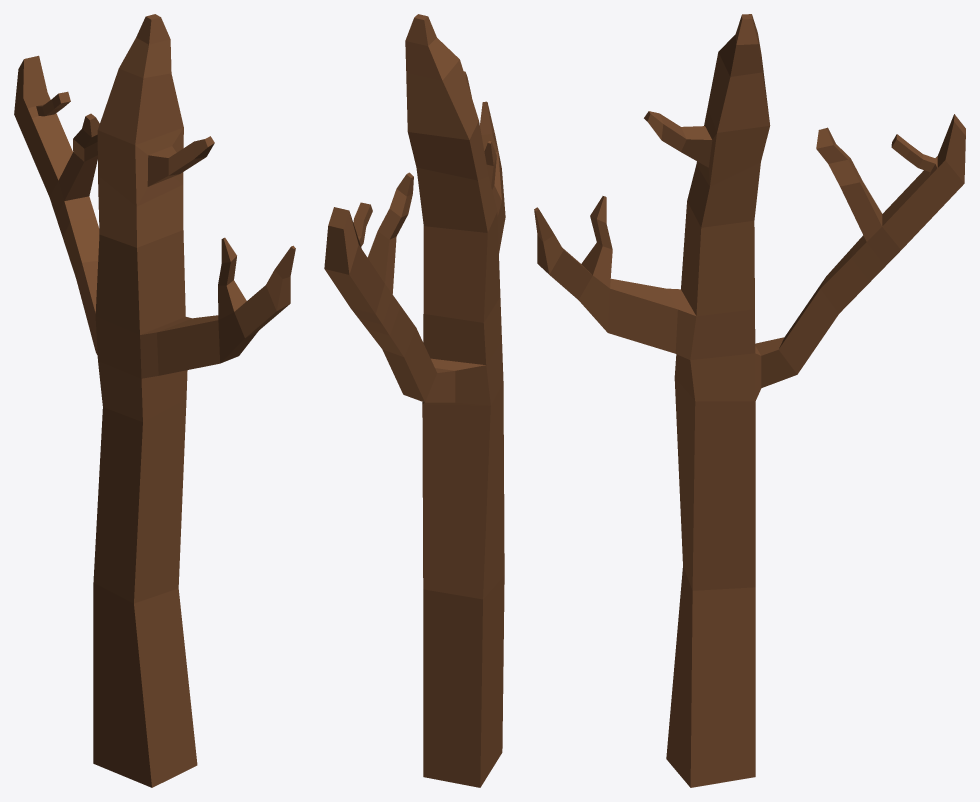
The model's file is deadtreeplain2.fbx.
3 views of the same model, side by side, from view 1: azimuth 30°, elevation 25°; view 2: azimuth 150°, elevation 25°; view 3: azimuth 270°, elevation 25° (orthographic). The views are drawn at different scales.
Parts seen in each view (by area): view 1: Cube.003; view 2: Cube.003; view 3: Cube.003.
Part boxes in pixels (x1,y1,x2,y2): Cube.003: [14, 14, 295, 787]; Cube.003: [324, 14, 505, 787]; Cube.003: [534, 14, 965, 787].
Bounding box in the file's own units: 32.01 × 219 × 112.
